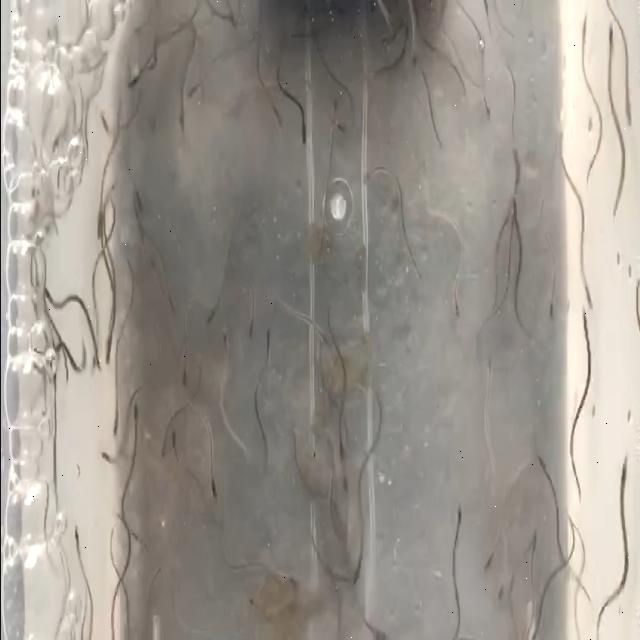active_glass_eel: (92, 193, 110, 246), (351, 537, 367, 595), (478, 66, 493, 127), (329, 110, 349, 150), (201, 292, 222, 330), (449, 276, 463, 332), (617, 449, 632, 501), (534, 448, 552, 491), (278, 565, 302, 597), (509, 140, 523, 193), (482, 529, 496, 581), (68, 511, 82, 563), (243, 304, 258, 352), (102, 317, 116, 368), (183, 77, 203, 111), (338, 444, 351, 496), (574, 5, 590, 47), (447, 502, 464, 541), (99, 103, 114, 147), (171, 94, 186, 138), (162, 279, 178, 320), (260, 312, 274, 358), (177, 344, 191, 388), (167, 423, 182, 464), (509, 192, 524, 232), (242, 593, 264, 620), (110, 397, 124, 437), (582, 272, 594, 318), (492, 574, 509, 606), (154, 426, 171, 458), (483, 348, 497, 386), (206, 468, 220, 506), (605, 17, 615, 70), (313, 325, 333, 351), (545, 285, 556, 331), (359, 165, 381, 188), (98, 446, 116, 474), (124, 68, 140, 98), (624, 81, 634, 128), (42, 286, 58, 315), (580, 304, 592, 342), (132, 183, 144, 220), (530, 525, 542, 561), (219, 326, 230, 364), (130, 400, 138, 440)
